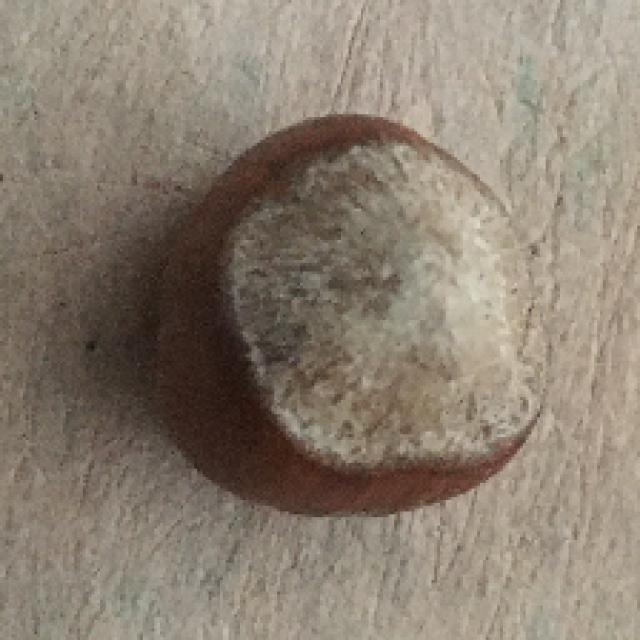qualityHazelnut: (153, 115, 552, 524)
